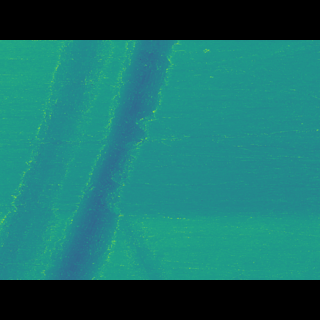Loch: (0, 70, 181, 251)
